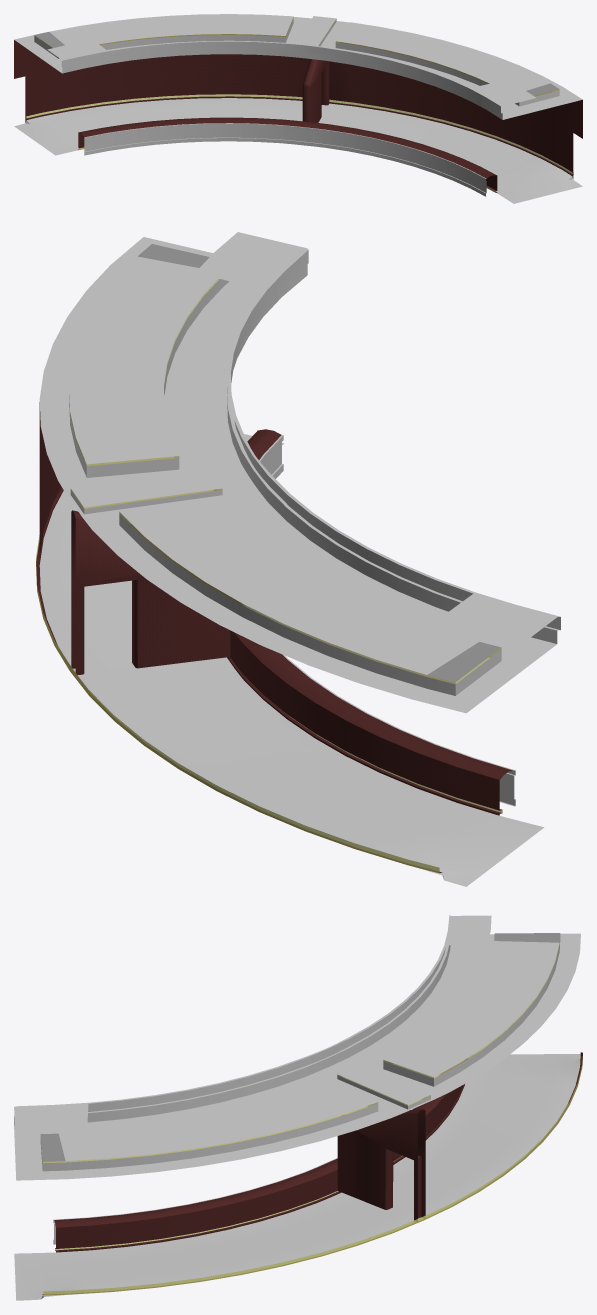
Rendered from Royal_Hall_Int_1.FBX.
The picture shows the model from 3 angles, top to bottom: view 1: azimuth 30°, elevation 25°; view 2: azimuth 150°, elevation 25°; view 3: azimuth 270°, elevation 25°; orthographic projection. The views are drawn at different scales.
Visible parts, largest first — view 1: Royal_Hall_Int_1; view 2: Royal_Hall_Int_1; view 3: Royal_Hall_Int_1.
Boxes of the visible parts, <box> form: Royal_Hall_Int_1: <box>14,14,582,203</box>; Royal_Hall_Int_1: <box>36,232,560,886</box>; Royal_Hall_Int_1: <box>14,915,582,1300</box>.
Bounding box in the file's own units: 22.62 × 5.92 × 21.99.
